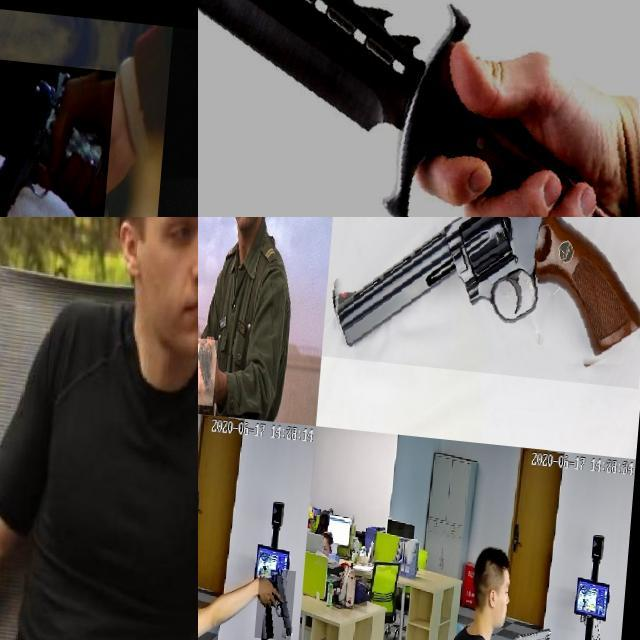-: (198, 0, 640, 217)
gun-knife-thesis - v11 Yolov5 augmented: (324, 217, 640, 374), (0, 55, 116, 217), (264, 562, 304, 634), (198, 217, 230, 287), (198, 333, 222, 401), (518, 612, 559, 640)
